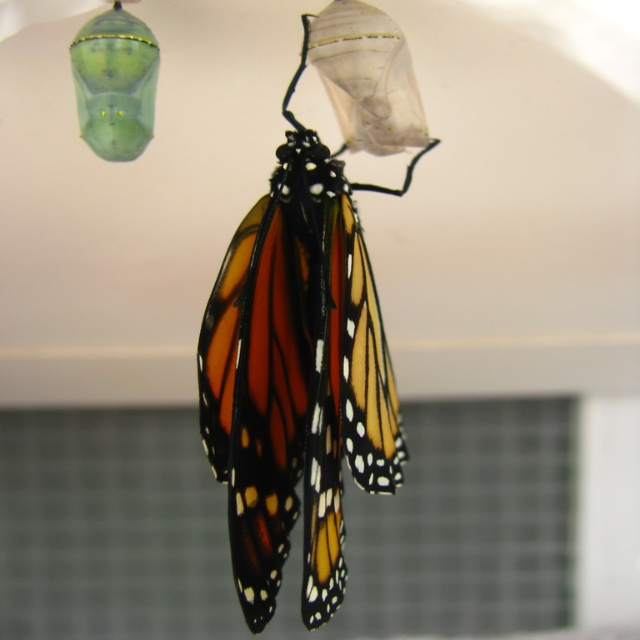Butterfly: (189, 171, 401, 640)
